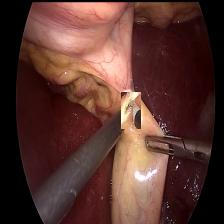Grasper: (143, 125, 207, 166)
Hook: (120, 91, 140, 128)
